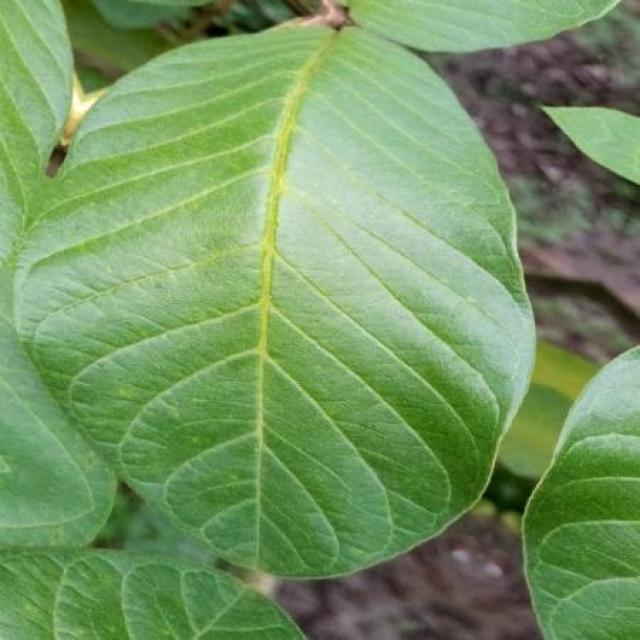Disease Free: (0, 0, 612, 639), (524, 348, 640, 640)
